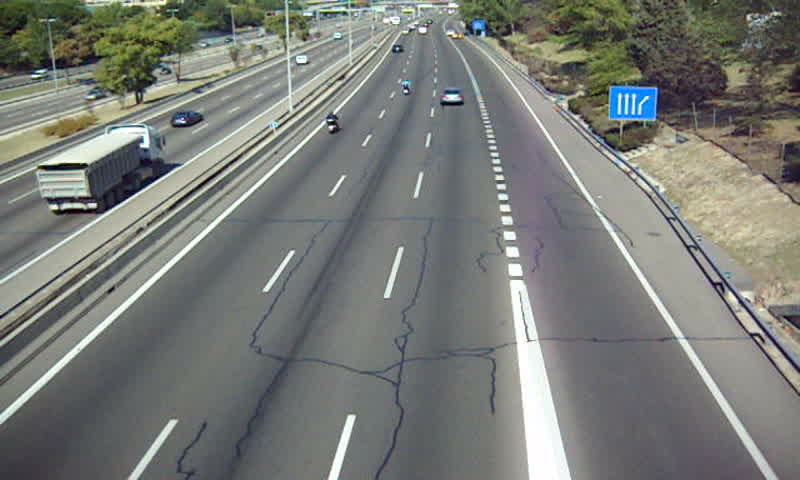car: (438, 88, 464, 106), (392, 44, 404, 54)
motorcycle: (324, 112, 337, 138), (400, 79, 411, 96)
